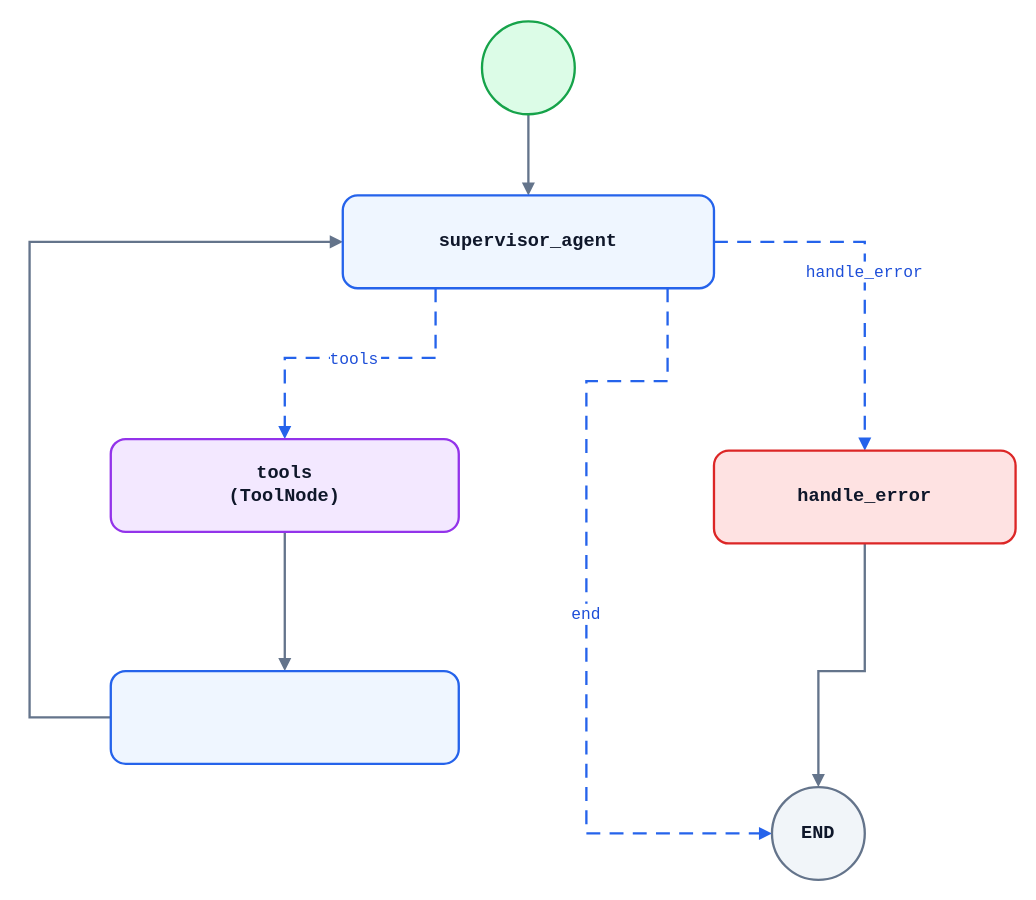
The diagram is 1036 pixels wide and 900 high, and some of its shapes have lost their labels. The centre of each missing label's shape, as x and y in pixels:
"capture_tool_result" goes at pixel 284 716.
"START" goes at pixel 527 67.
